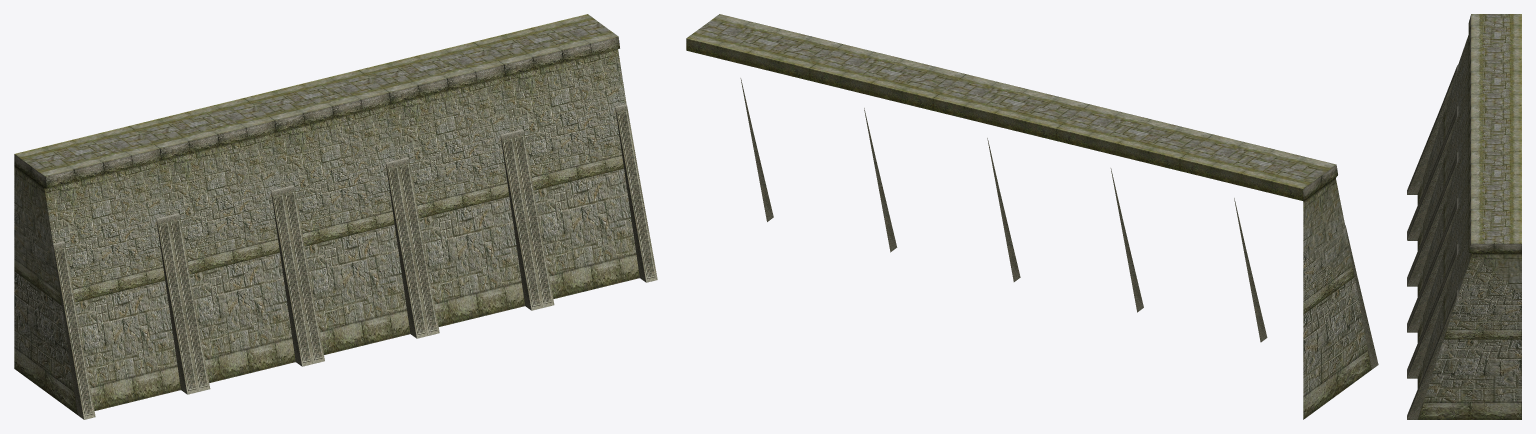
File: secret_bigwall_03.glb
The picture shows the model from 3 angles, left to right: view 1: azimuth 30°, elevation 25°; view 2: azimuth 150°, elevation 25°; view 3: azimuth 270°, elevation 25°; orthographic projection. The views are drawn at different scales.
Visible parts, largest first — view 1: secret_bigwall_03; view 2: secret_bigwall_03; view 3: secret_bigwall_03.
Part boxes in pixels (bbox=[...]): secret_bigwall_03: bbox=[14, 14, 657, 419]; secret_bigwall_03: bbox=[686, 14, 1378, 419]; secret_bigwall_03: bbox=[1407, 14, 1521, 419].
Bounding box in the file's own units: 50 × 17.9 × 10.57.
Materials: 1 (1 with a texture image).
